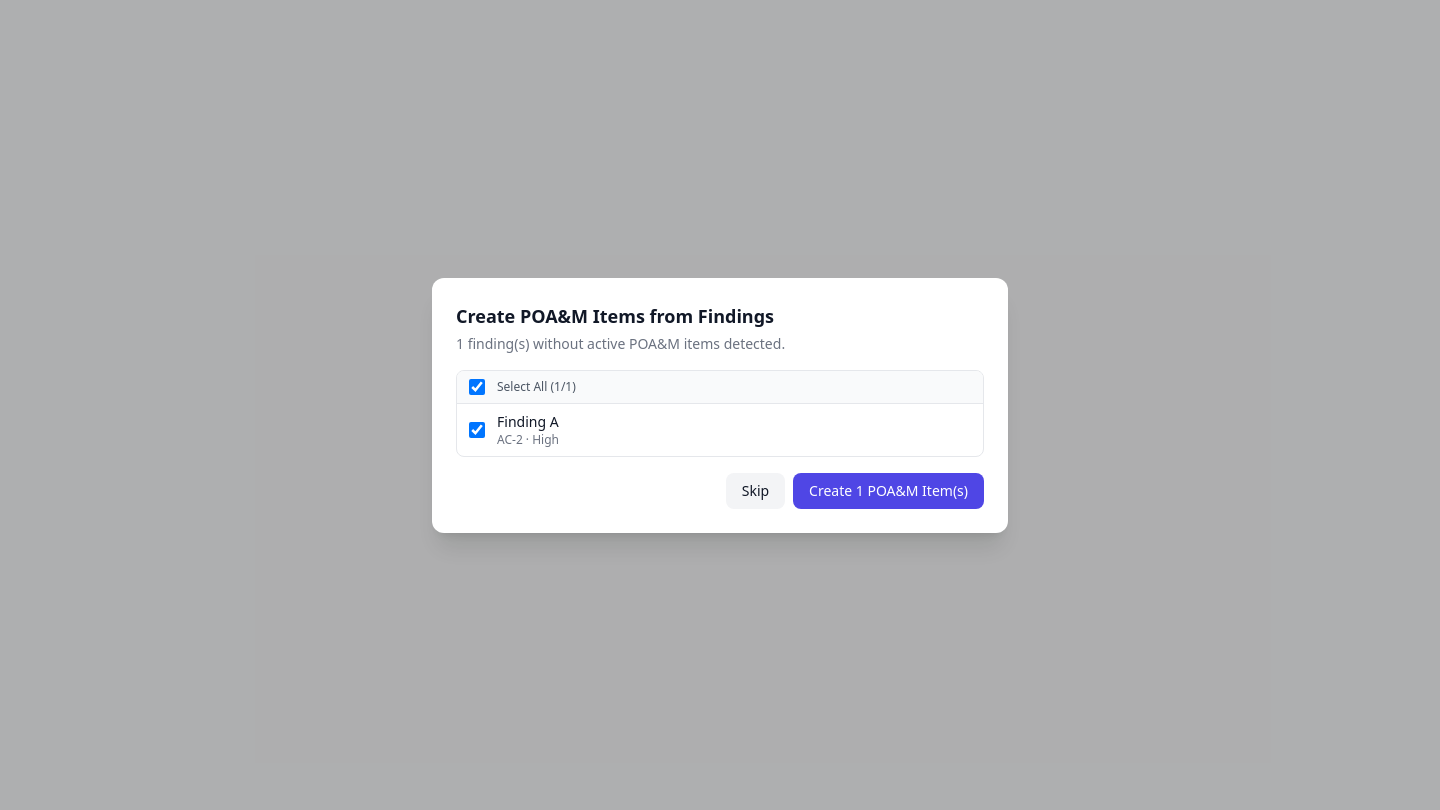
Scenario: #1017 POA&M domain mutation permissions › permits projected post-import bulk creation
Click the button "Create 1 POA&M Item(s)" at (889,490), box 793,472 -> 984,508
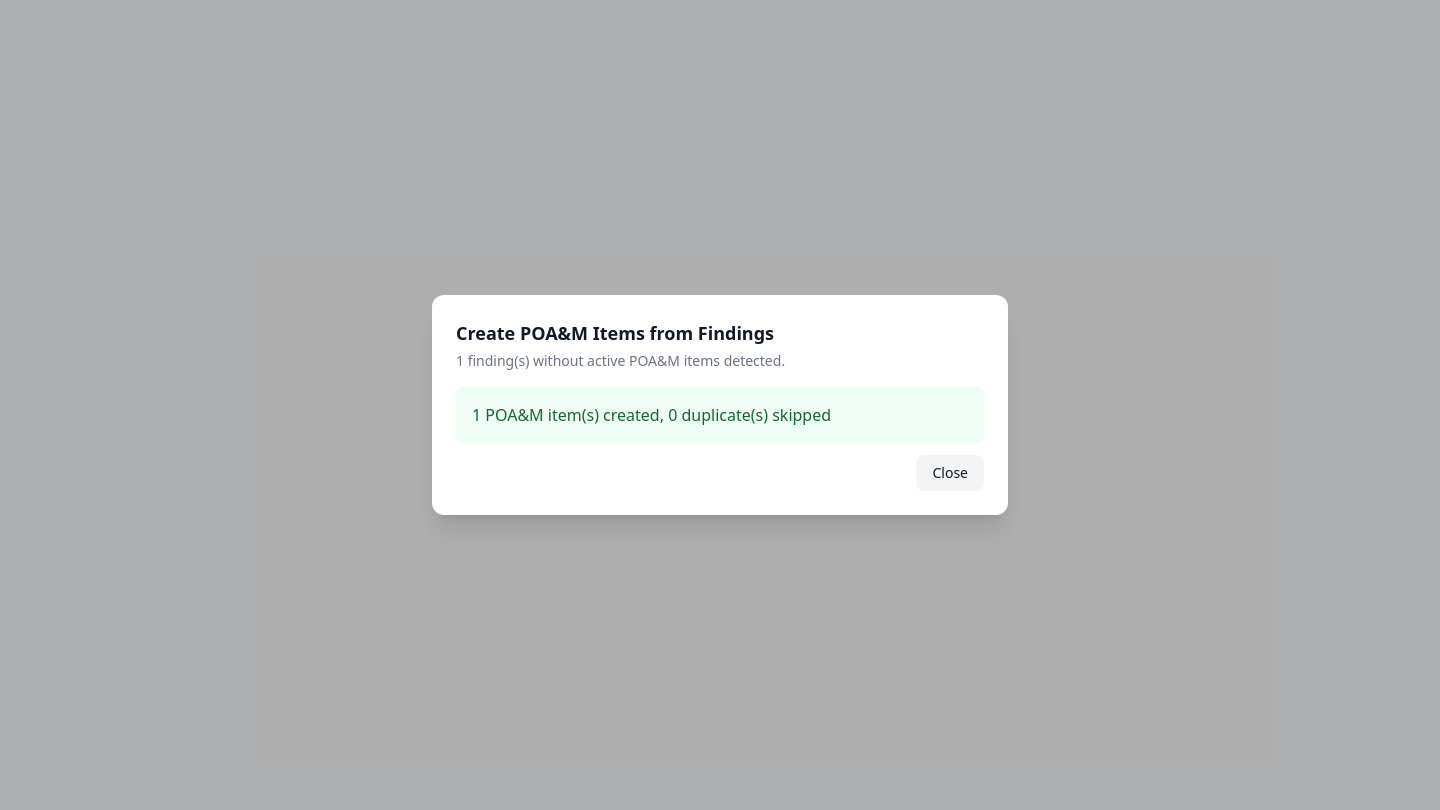
Now the text "1 POA&M item(s) created, 0 duplicate(s) skipped" is shown, box 472,404 -> 831,426
